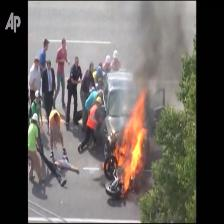fire: (113, 94, 158, 200)
smoke: (127, 0, 193, 99)
